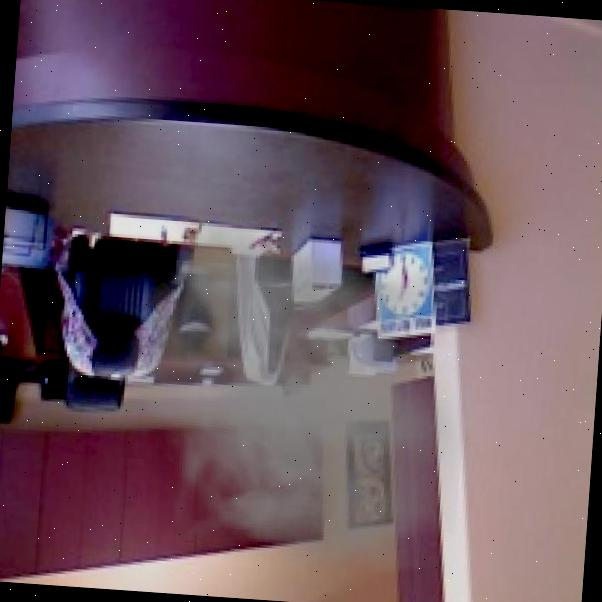smoke: (93, 209, 476, 578)
